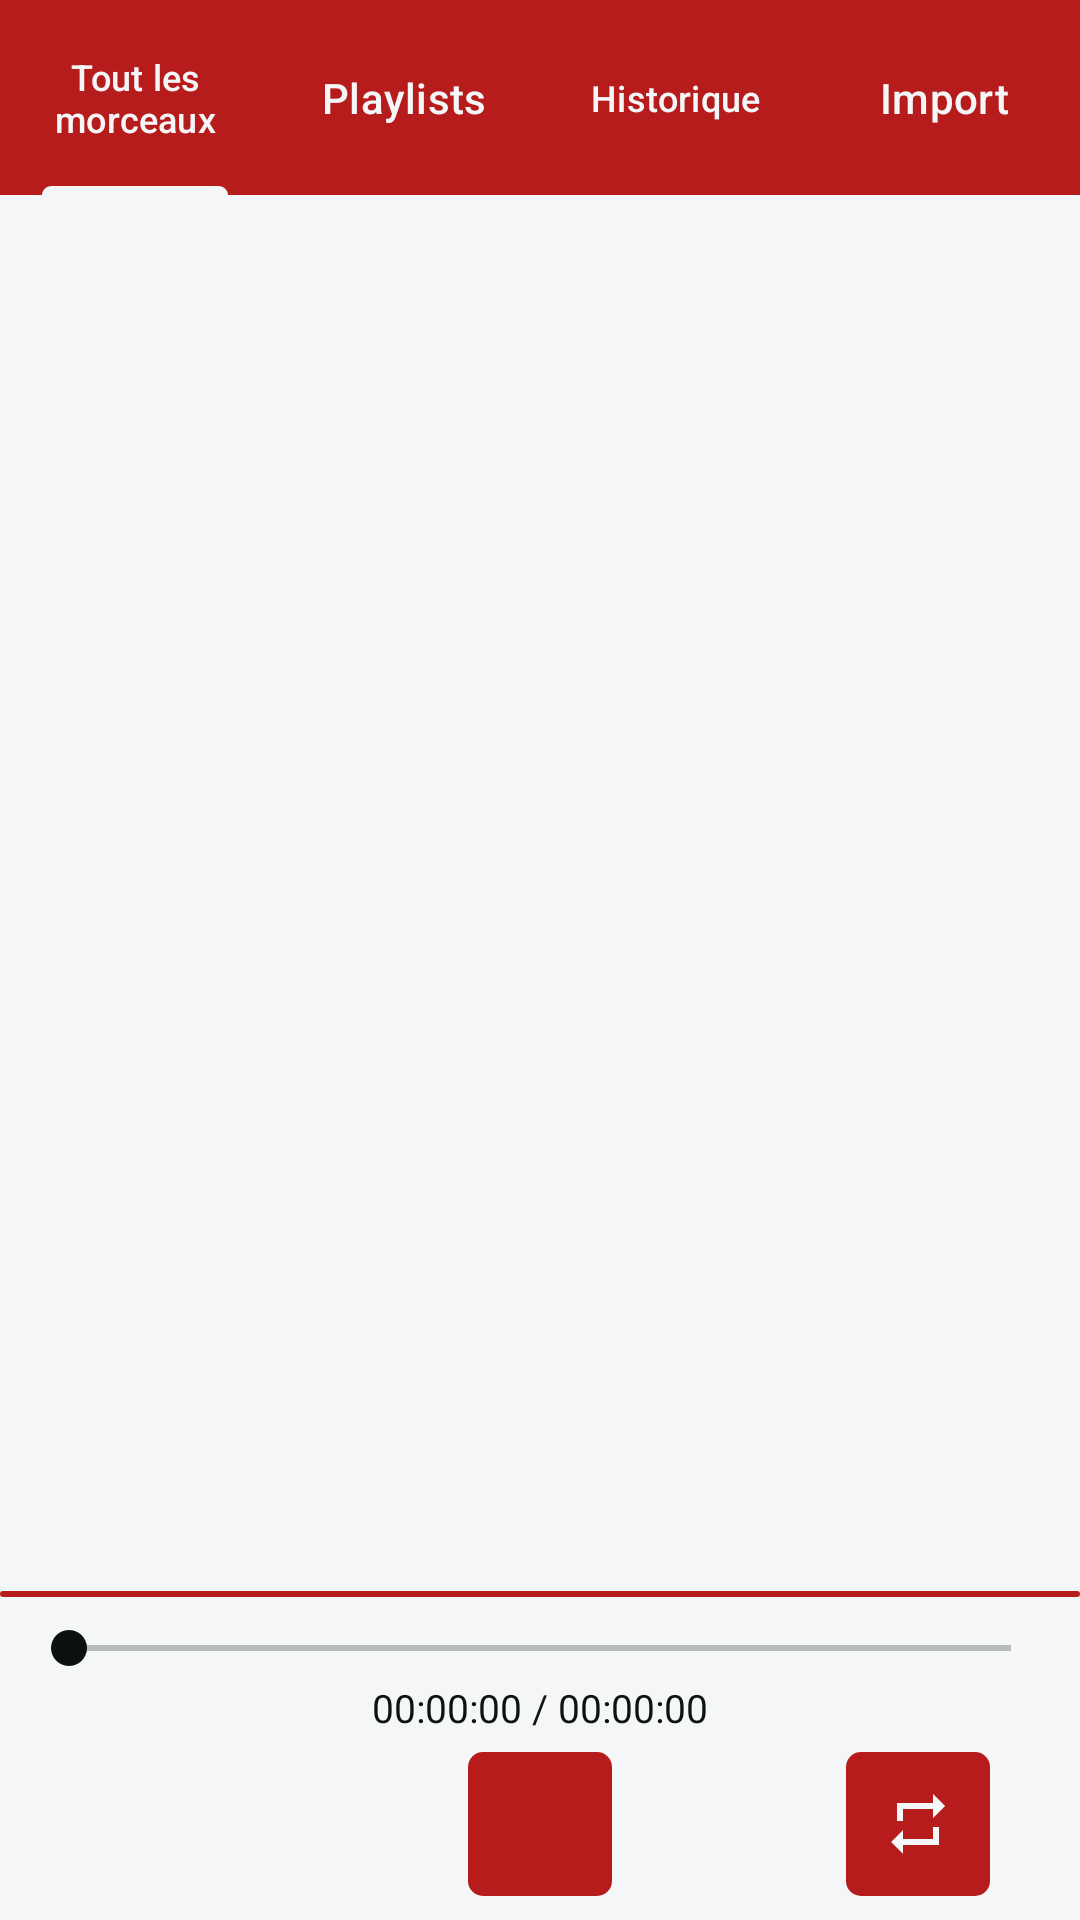

Icon bounding boxes for this 1080*1920 phone screenshot, format [x1, y1, x2, y2]:
replay: [846, 1752, 990, 1896]
